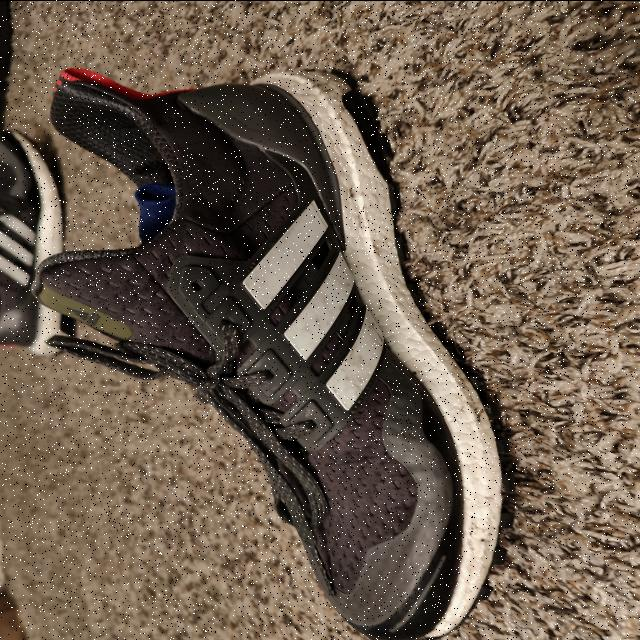black shoes: (33, 76, 511, 604)
